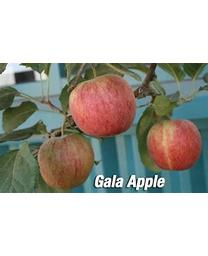apple: (68, 73, 137, 138), (39, 134, 94, 191), (145, 120, 202, 172)
